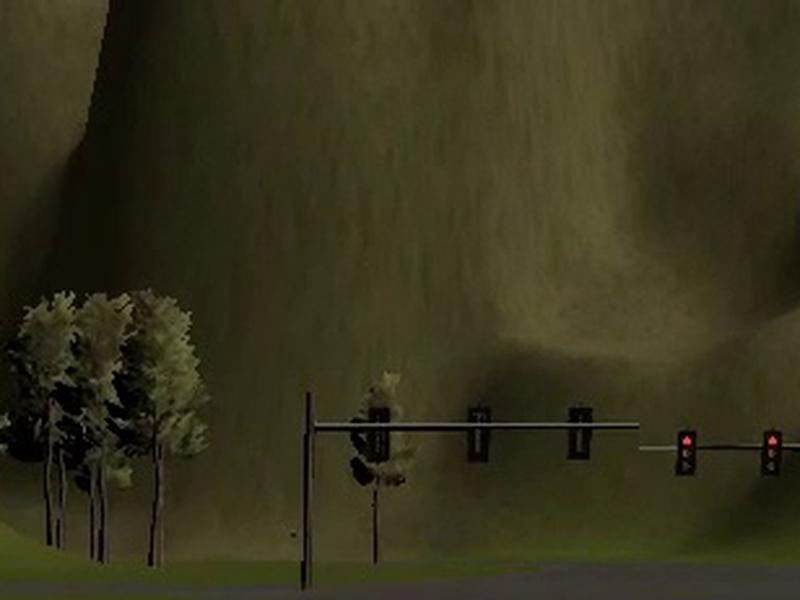Red: (676, 430, 697, 476), (761, 431, 782, 476)
